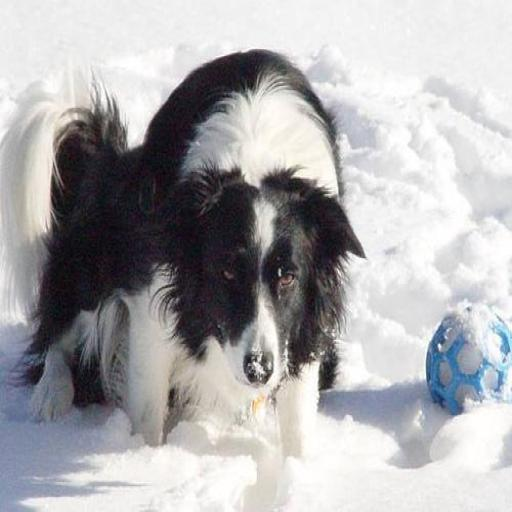dog_face: (171, 169, 364, 394)
